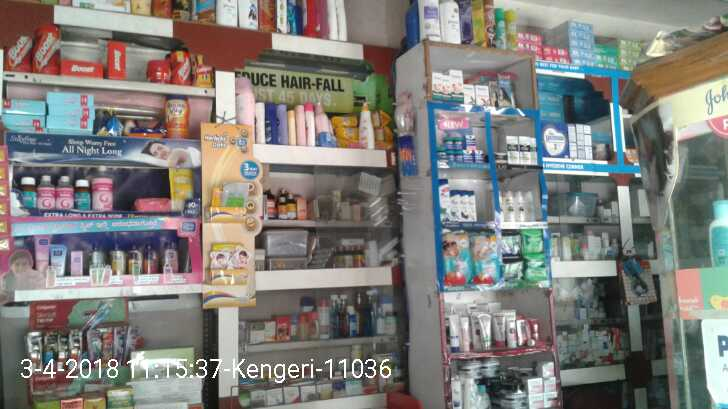vicks: (433, 134, 485, 162)
